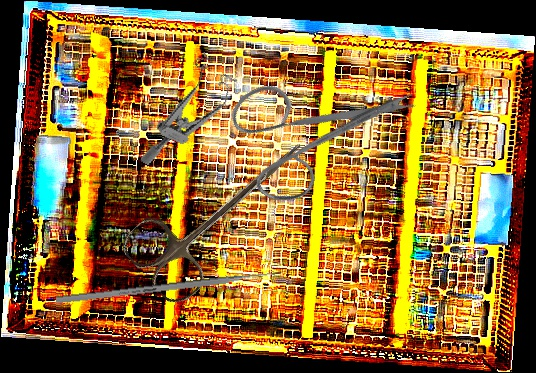Iris Scissors: (203, 13, 422, 238), (116, 108, 327, 311)
Pusher: (55, 267, 291, 305)
Speculum: (139, 46, 243, 185)
